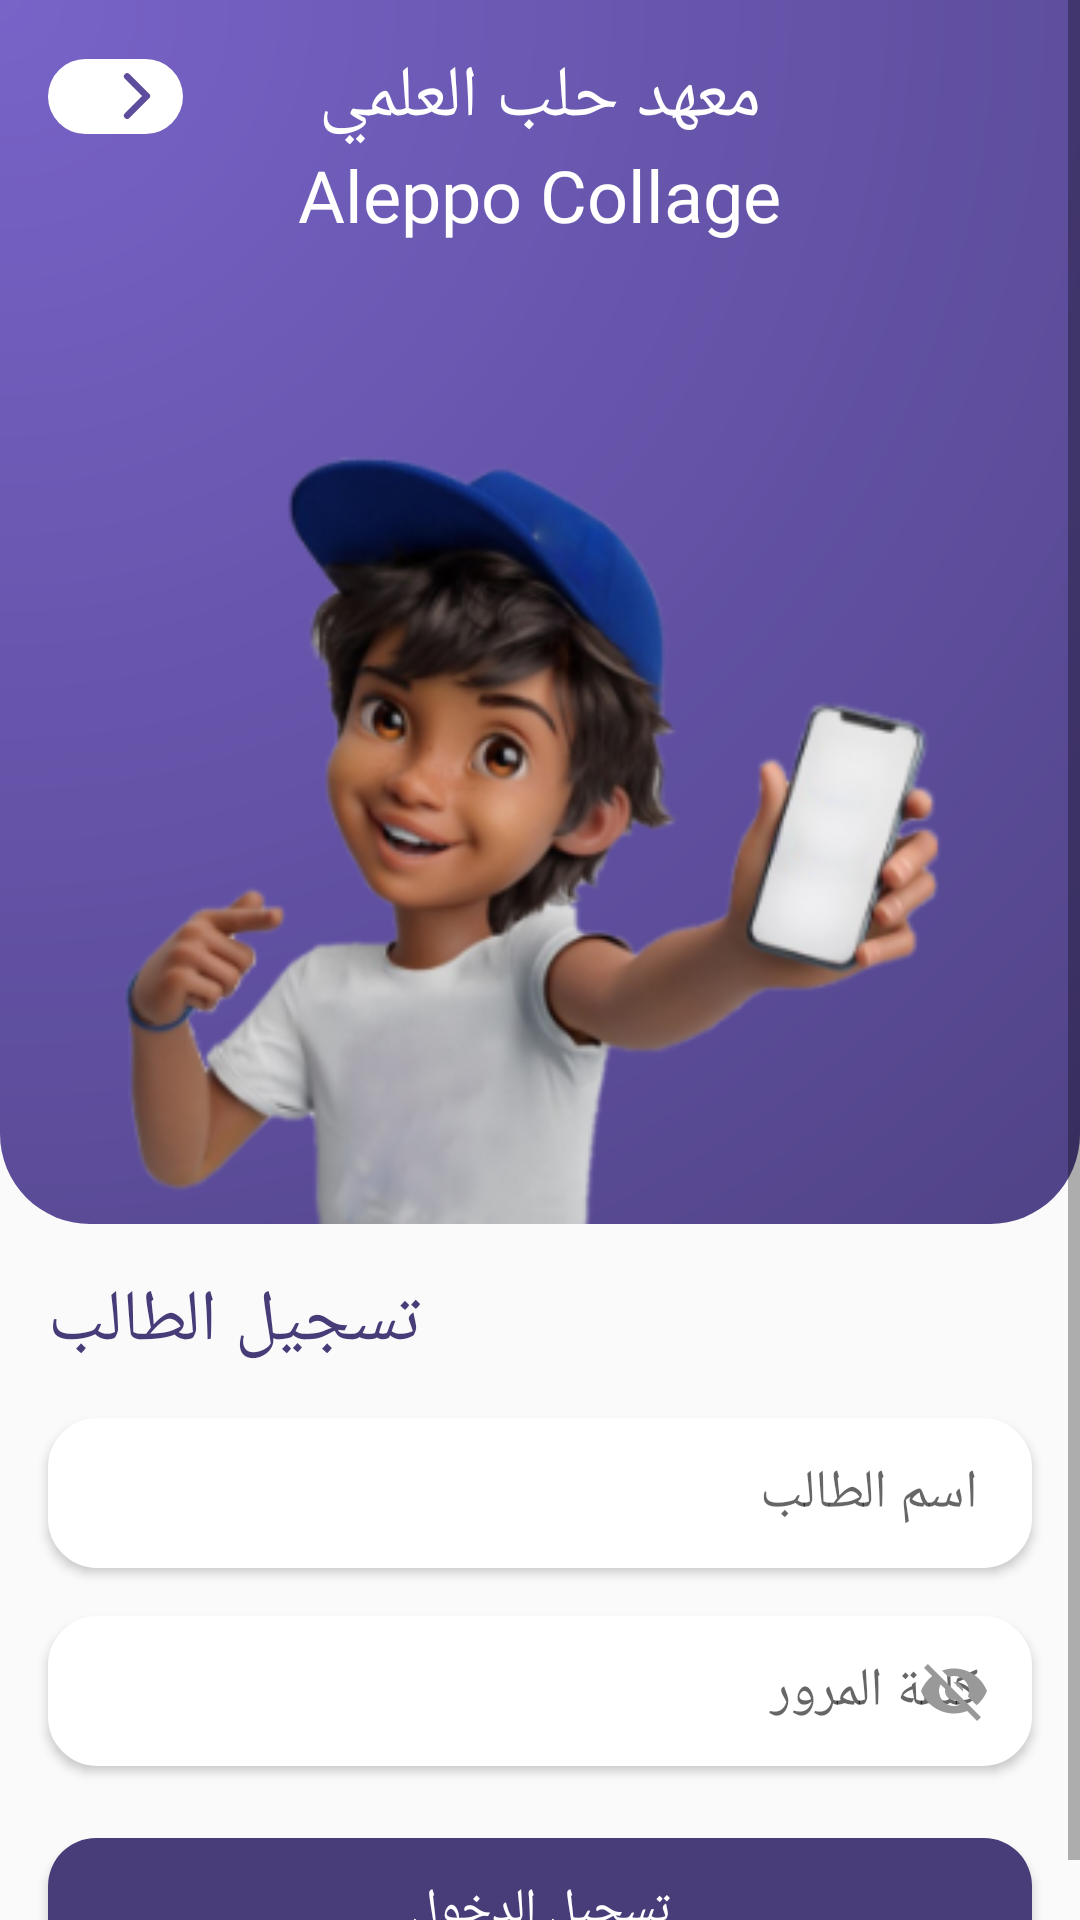

Icons on this 1080px x 1920px Android screen, each with its box as (x1, y1, x2, y2):
visibility off: (918, 1664, 987, 1721)
